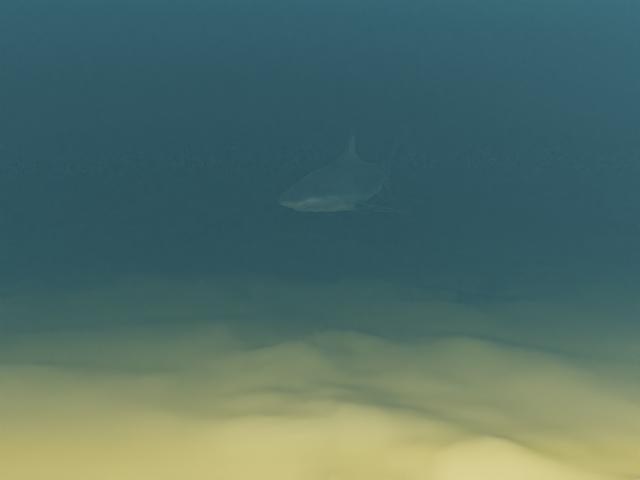Carribean Shark.001: (278, 128, 419, 215)
